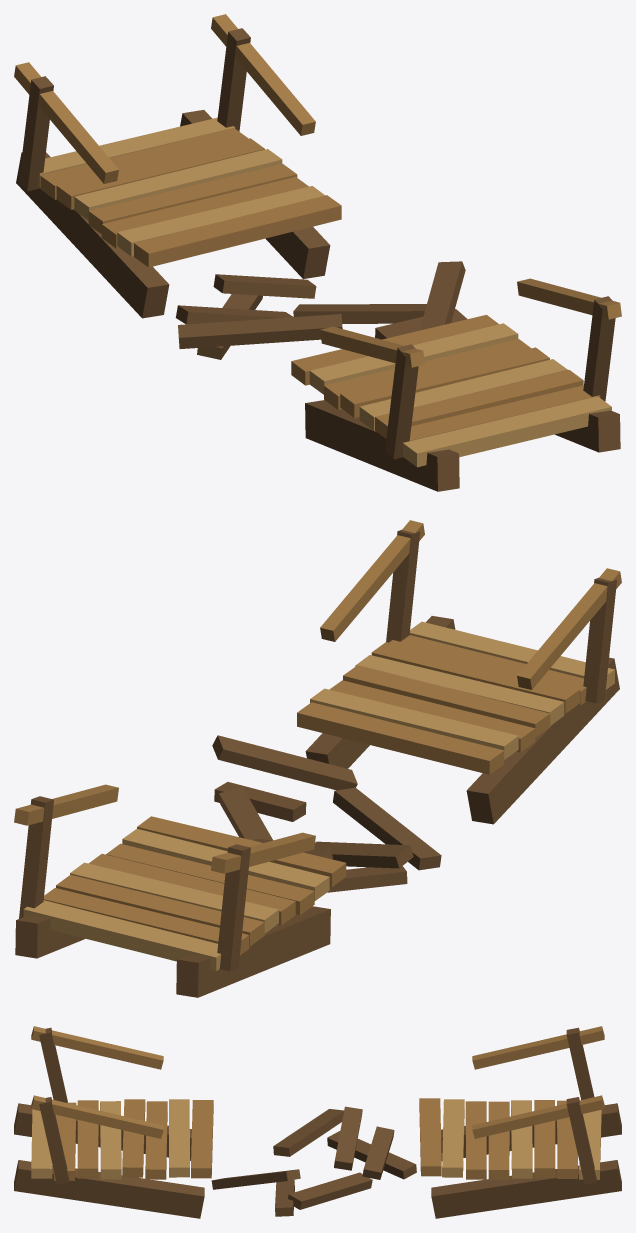
File: SM_BridgeBroken.fbx
3 views of the same model, one above another, from view 1: azimuth 30°, elevation 25°; view 2: azimuth 150°, elevation 25°; view 3: azimuth 270°, elevation 25° (orthographic). The views are drawn at different scales.
Parts seen in each view (by area): view 1: SM_BridgeBroken; view 2: SM_BridgeBroken; view 3: SM_BridgeBroken.
Boxes of the visible parts, x1=… form: SM_BridgeBroken: x1=14, y1=14, x2=621, y2=491; SM_BridgeBroken: x1=14, y1=520, x2=621, y2=997; SM_BridgeBroken: x1=14, y1=1026, x2=621, y2=1218.
Bounding box in the file's own units: 2.73 × 7.72 × 1.75.
